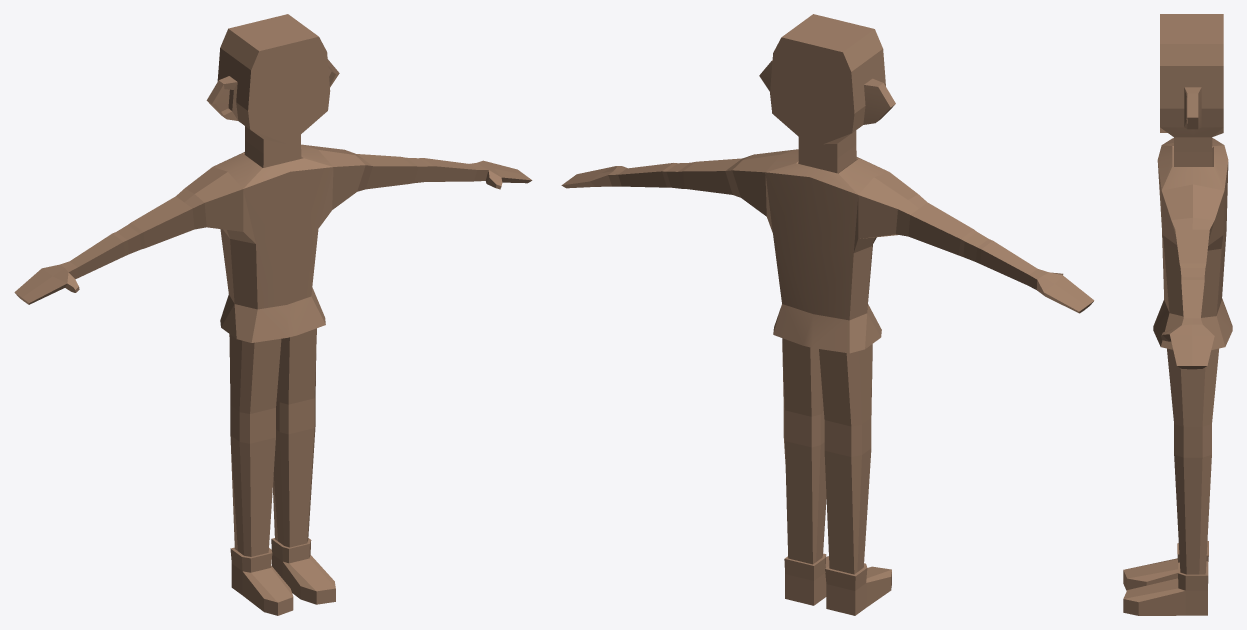
Rendered from LowPolyFemale.fbx.
The picture shows the model from 3 angles, left to right: view 1: azimuth 30°, elevation 25°; view 2: azimuth 150°, elevation 25°; view 3: azimuth 270°, elevation 25°; orthographic projection. The views are drawn at different scales.
Visible parts, largest first — view 1: FemaleBody; view 2: FemaleBody; view 3: FemaleBody.
Boxes of the visible parts, bbox=[...] form: FemaleBody: bbox=[14, 14, 532, 615]; FemaleBody: bbox=[561, 14, 1094, 615]; FemaleBody: bbox=[1123, 14, 1232, 615].
Bounding box in the file's own units: 49.75 × 52.17 × 9.08.
